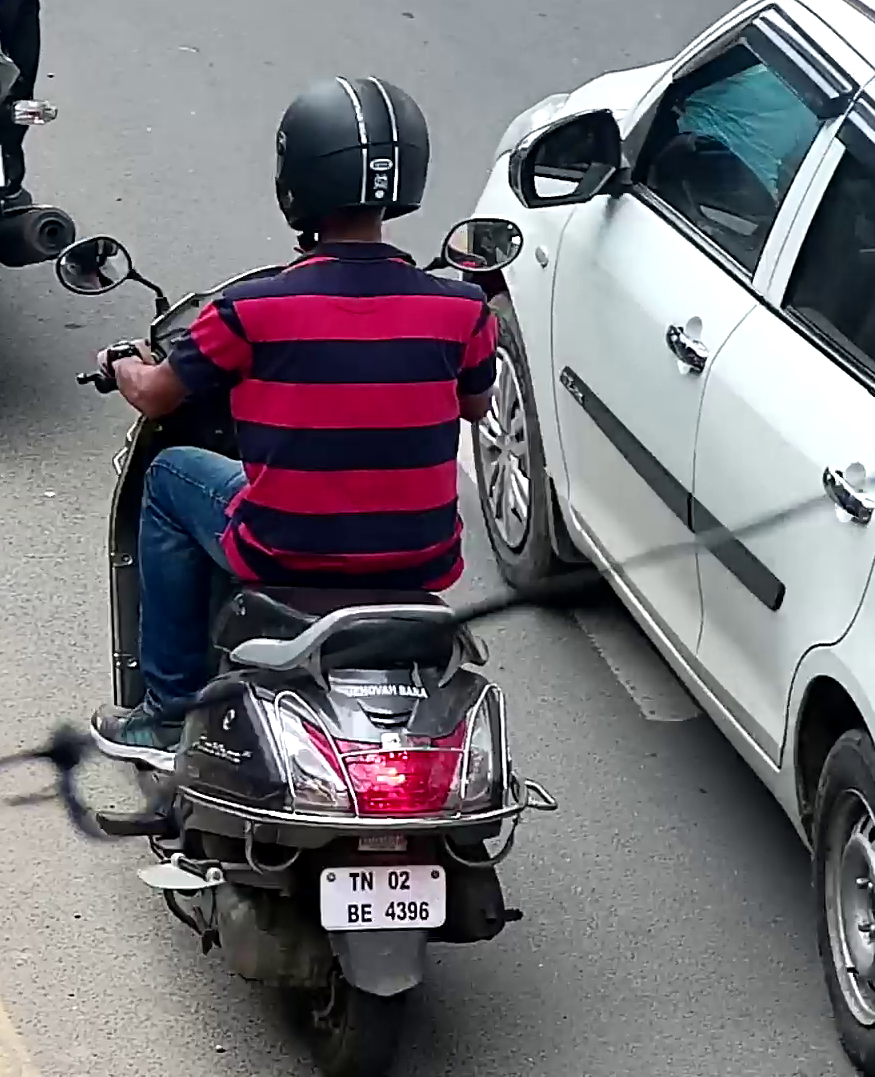0: (388, 871, 399, 890)
2: (399, 870, 411, 890)
3: (396, 901, 407, 920)
4: (384, 901, 396, 921)
6: (418, 901, 429, 921)
9: (407, 901, 418, 921)
B: (347, 904, 359, 923)
E: (359, 903, 372, 923)
N: (361, 871, 374, 891)
P16: (317, 863, 447, 934)
T: (348, 872, 360, 891)
